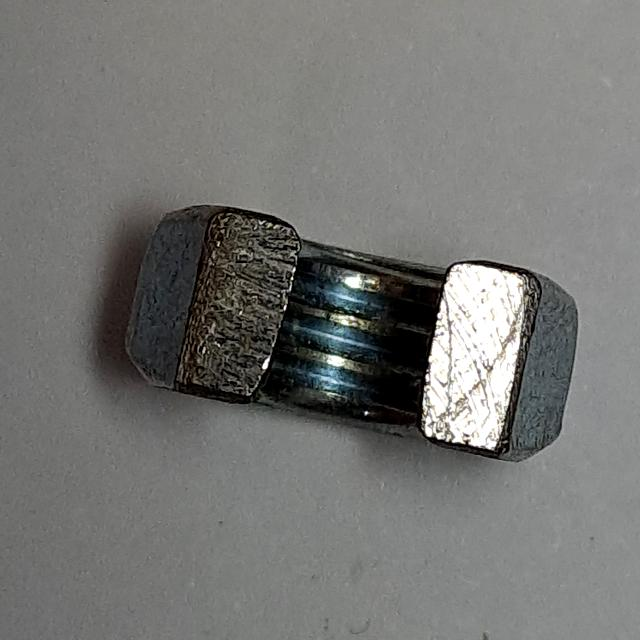Side-Fracture: (117, 194, 595, 475)
